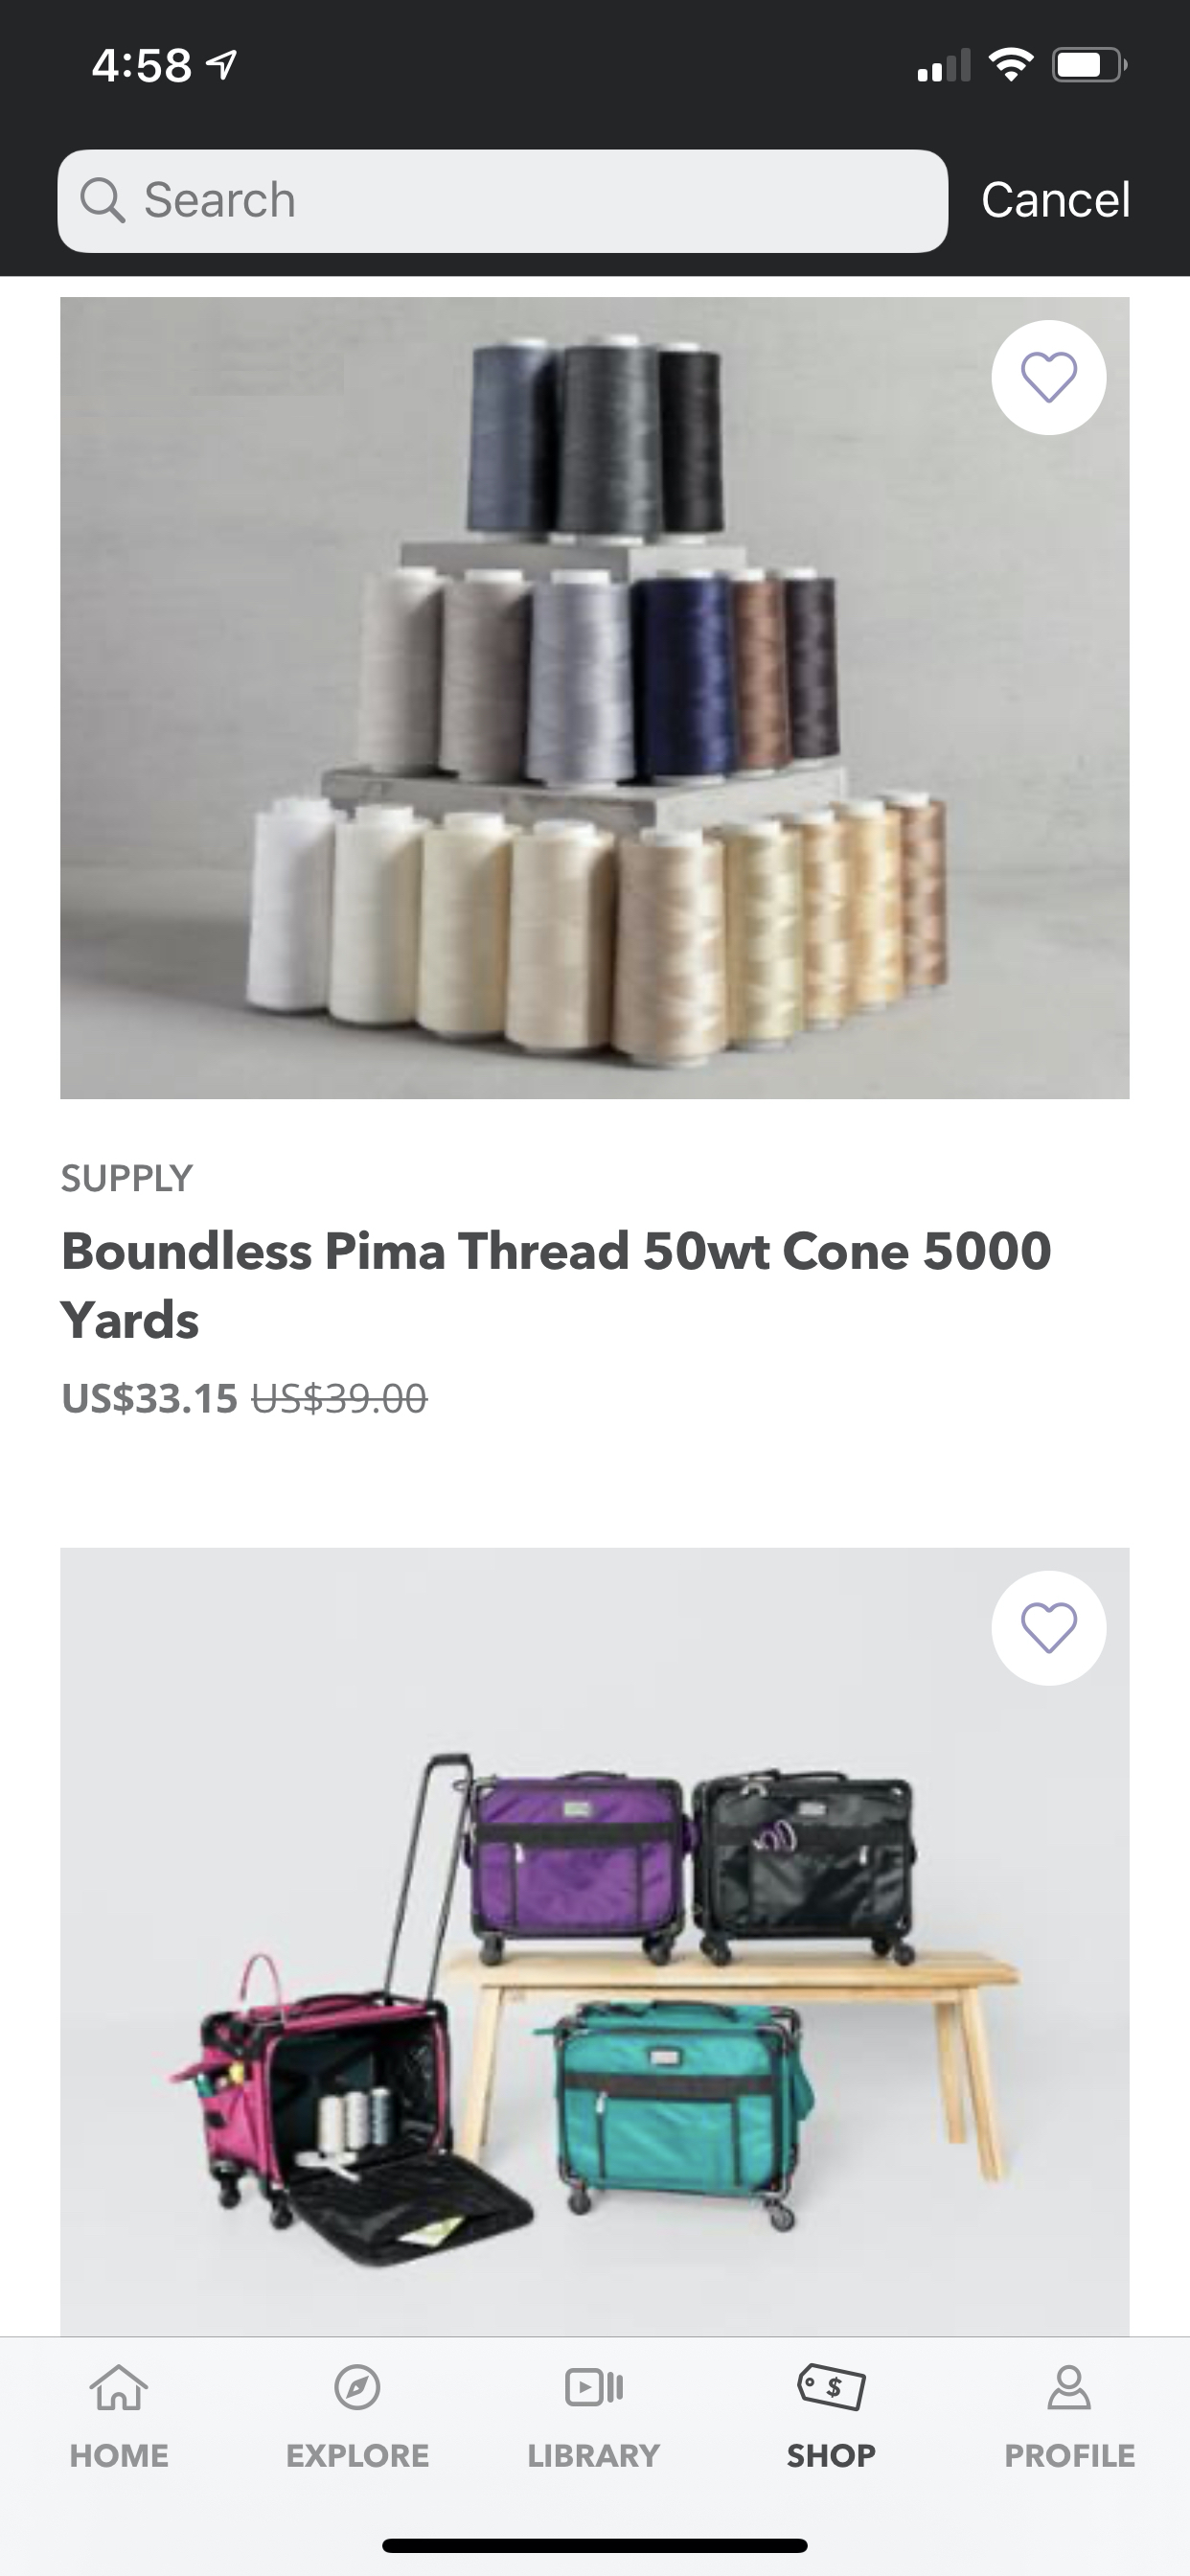EditText: (58, 149, 948, 255)
Icon: (991, 320, 1106, 435), (991, 1571, 1106, 1686), (797, 2362, 866, 2412), (89, 2364, 148, 2410), (565, 2367, 623, 2407), (334, 2362, 380, 2410), (81, 177, 127, 223), (1047, 2364, 1091, 2410)
Image: (61, 297, 1129, 1099), (61, 1548, 1129, 2336)
Text: (59, 1229, 1050, 1339), (62, 1382, 429, 1416), (146, 181, 294, 218), (983, 181, 1129, 218), (61, 1163, 194, 1193), (288, 2445, 429, 2468), (1006, 2443, 1136, 2468), (529, 2445, 661, 2468), (71, 2445, 169, 2468), (787, 2443, 876, 2468)
UpperTaskBar: (94, 48, 1128, 84)
